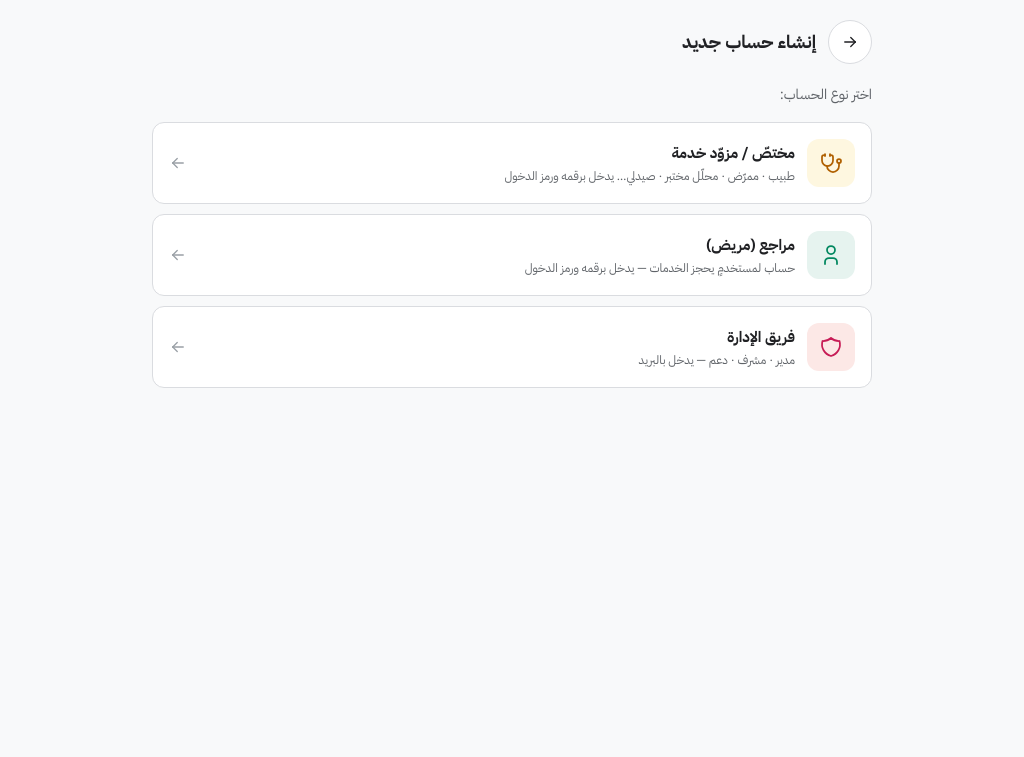
Test case: إنشاءُ الحساب › 🚨 خطأُ الخادم يبقى في النموذج بحقوله، ومعه رابطُ الحساب القائم
Click the text "مختصّ / مزوّد خدمة" at (733, 153), box x1=671 y1=142 x2=795 y2=164
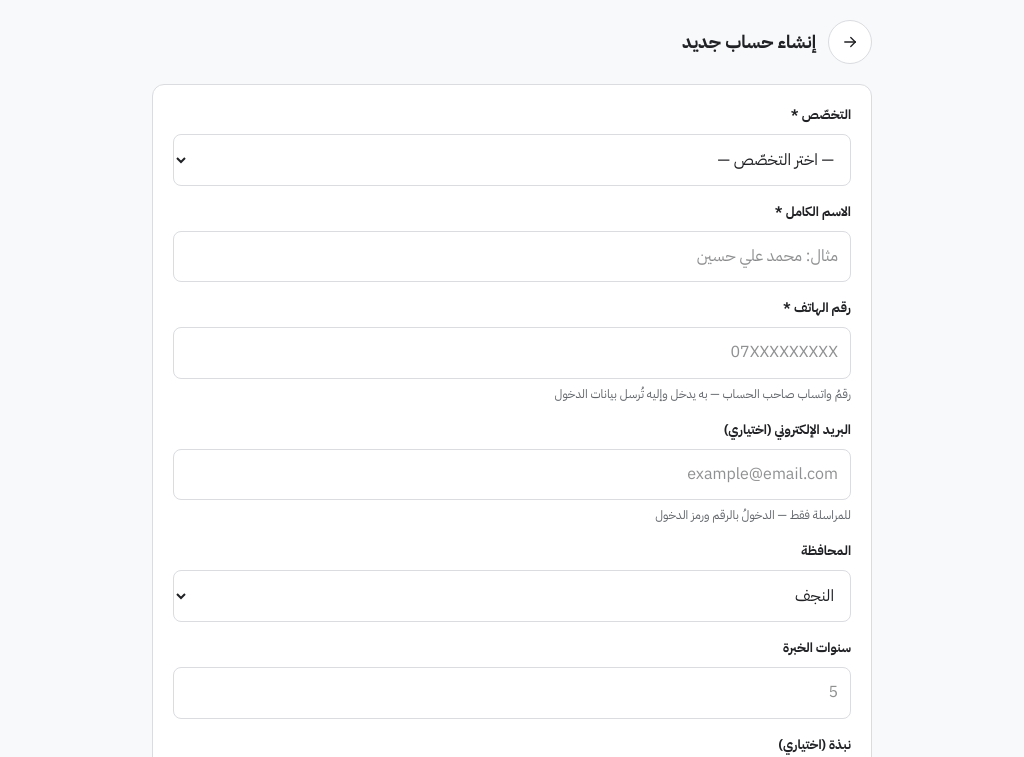
Select "تمريضي/ة" in the dropdown with id "specialistType" at (512, 160), box x1=173 y1=134 x2=851 y2=186
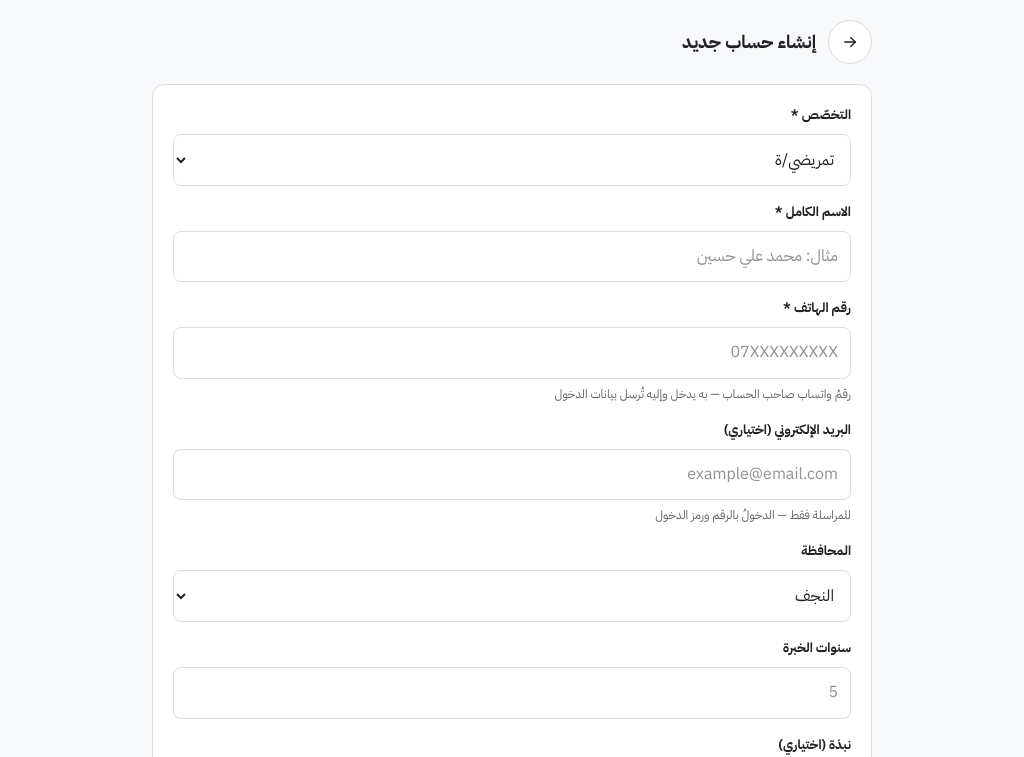
Type "علي حسين" into the field with id "fullName" at (512, 256), box x1=173 y1=231 x2=851 y2=282
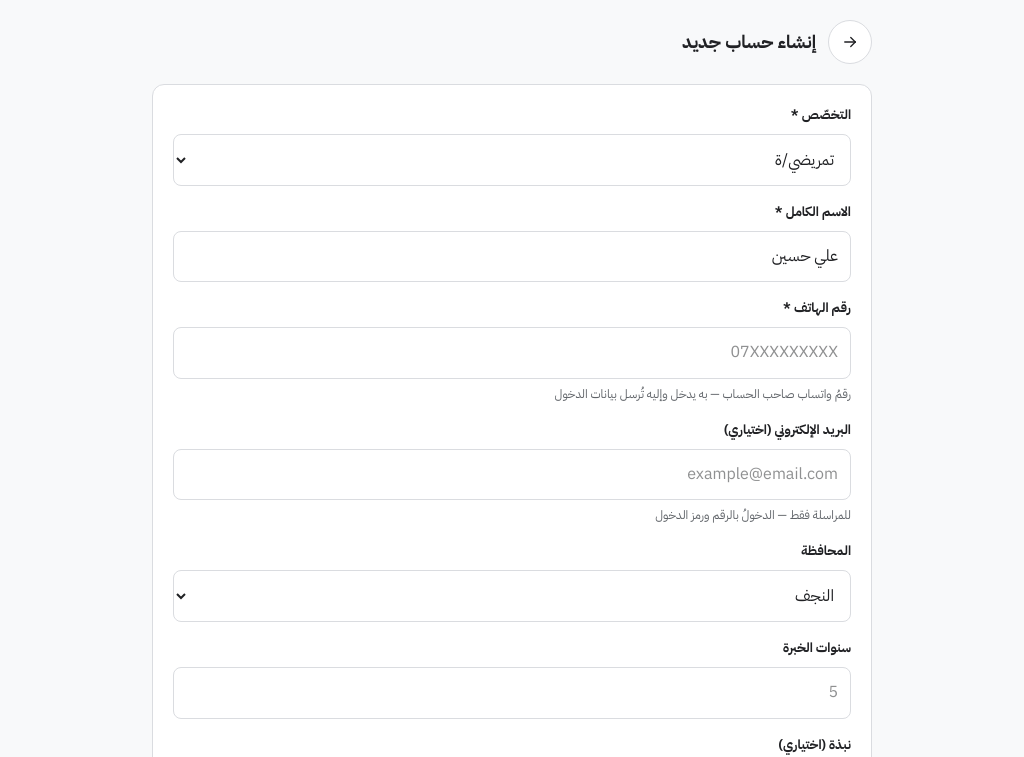
Type "07701234567" into the field labelled "رقم الهاتف *" at (512, 353), box x1=173 y1=327 x2=851 y2=379
(page scrolled)
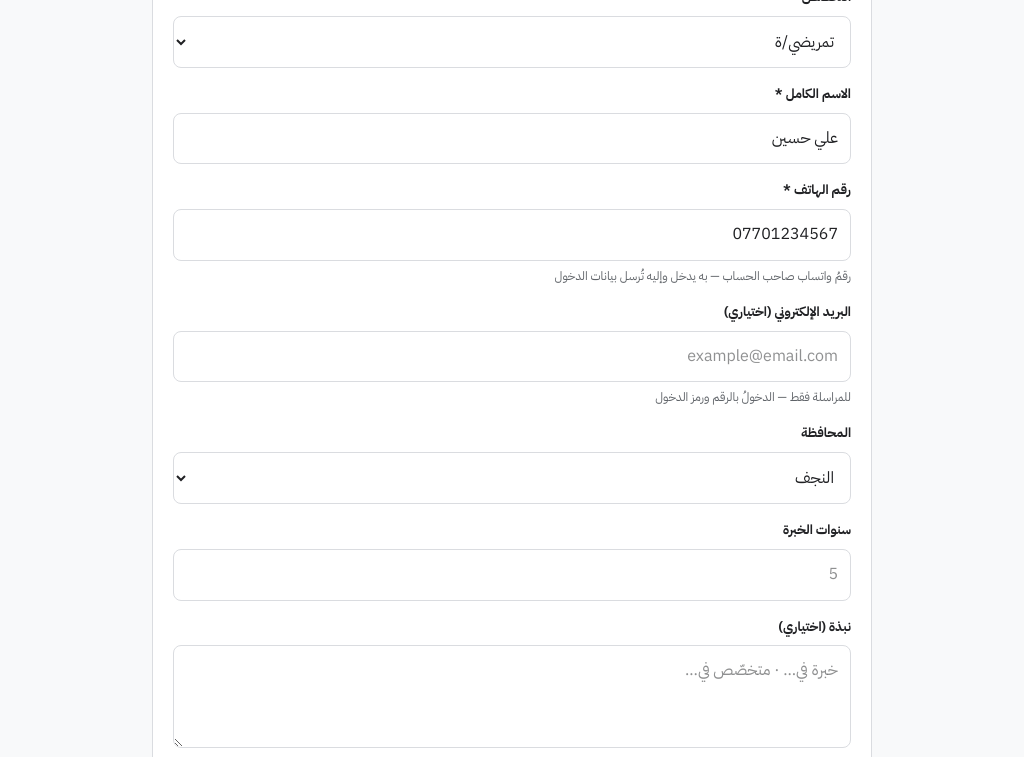
Submit the form
(page scrolled)
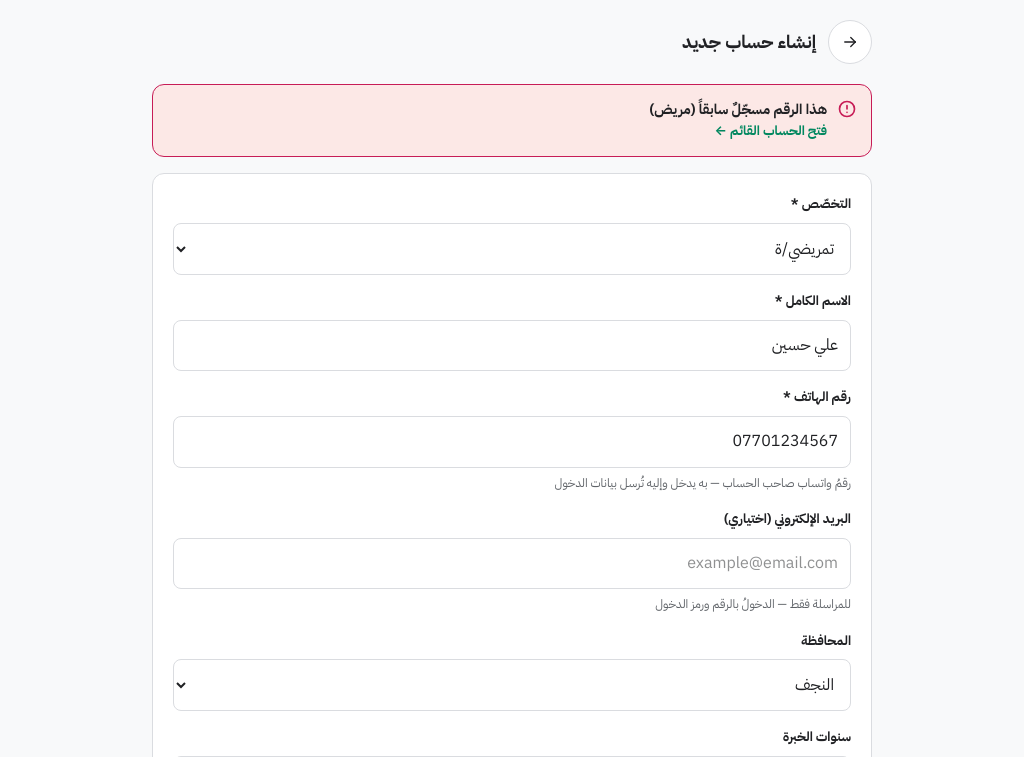
Check: the message shows "مسجّلٌ سابقاً", box x1=649 y1=99 x2=827 y2=120
